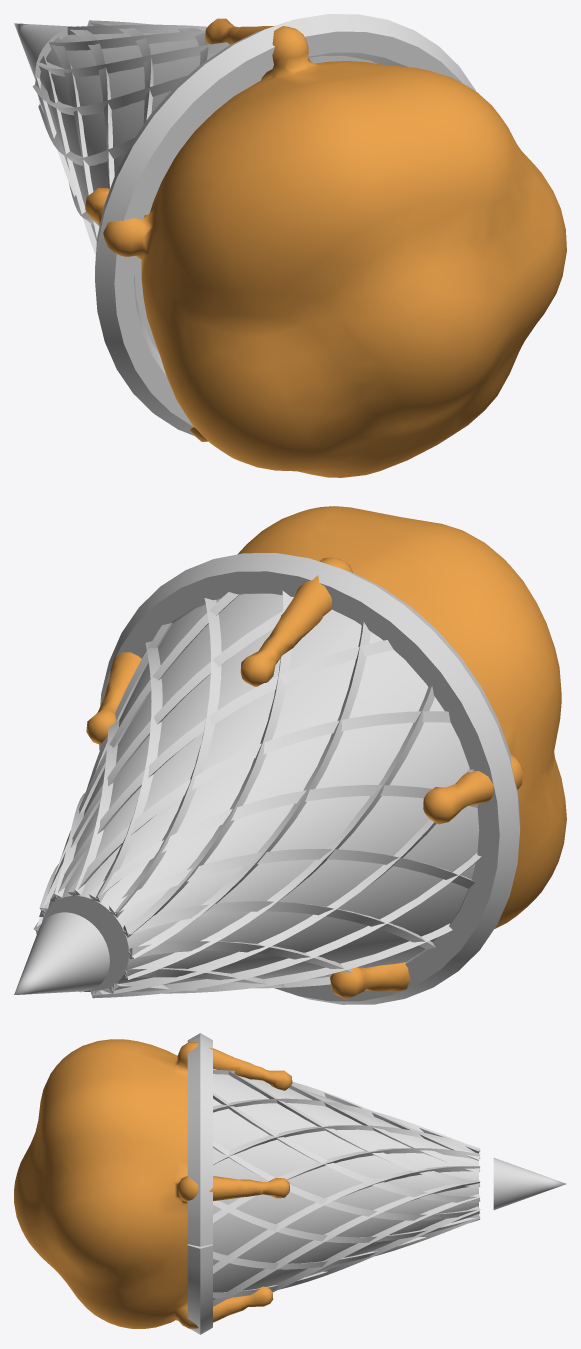
The model's file is napalm_cone.glb.
3 renders of one model, top to bottom at view 1: azimuth 30°, elevation 25°; view 2: azimuth 150°, elevation 25°; view 3: azimuth 270°, elevation 25°, orthographic. The views are drawn at different scales.
Parts seen in each view (by area): view 1: cone; view 2: cone; view 3: cone.
Boxes of the visible parts, <box> form: cone: <box>14,14,566,477</box>; cone: <box>14,506,566,1004</box>; cone: <box>14,1033,566,1334</box>.
Size of the model in its own units: 0.8239 by 0.824 by 1.51.
